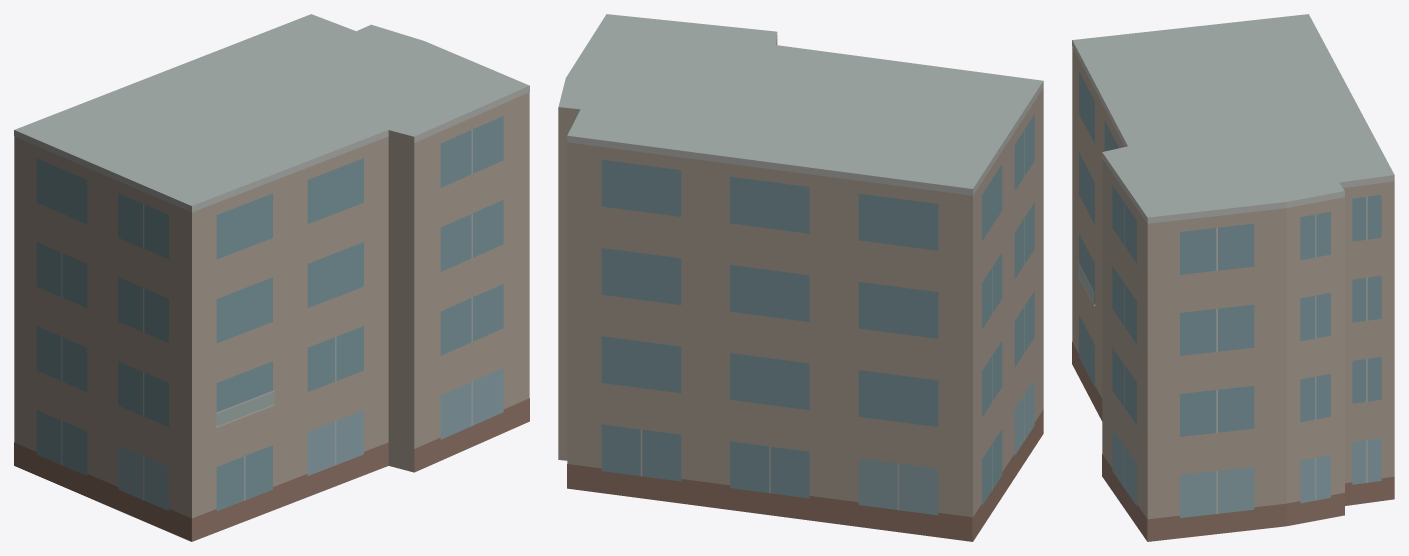
File: survey-upis-32745548.glb
3 views of the same model, side by side, from view 1: azimuth 30°, elevation 25°; view 2: azimuth 150°, elevation 25°; view 3: azimuth 270°, elevation 25° (orthographic). The views are drawn at different scales.
Parts seen in each view (by area): view 1: survey-upis-32745548.tmp; view 2: survey-upis-32745548.tmp; view 3: survey-upis-32745548.tmp.
Part boxes in pixels (x1,y1,x2,y2): survey-upis-32745548.tmp: [14, 14, 529, 541]; survey-upis-32745548.tmp: [558, 14, 1043, 541]; survey-upis-32745548.tmp: [1072, 14, 1394, 541].
Bounding box in the file's own units: 17.25 × 12.8 × 11.55.
